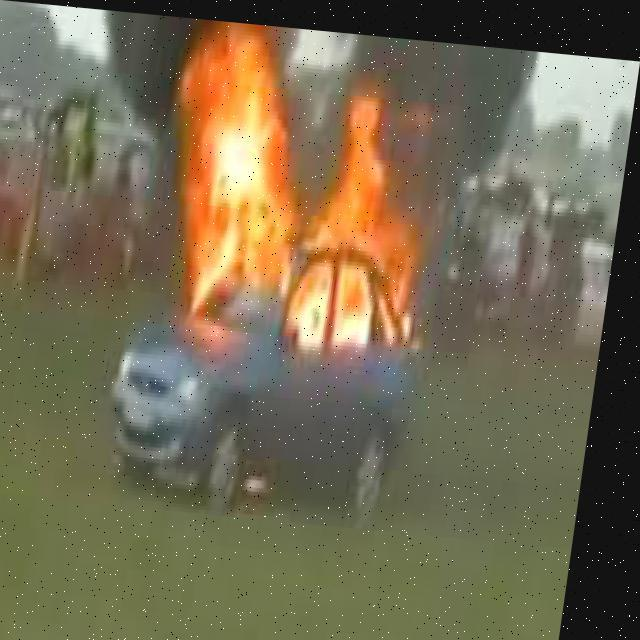Fire: (150, 22, 340, 330), (282, 62, 470, 333)
